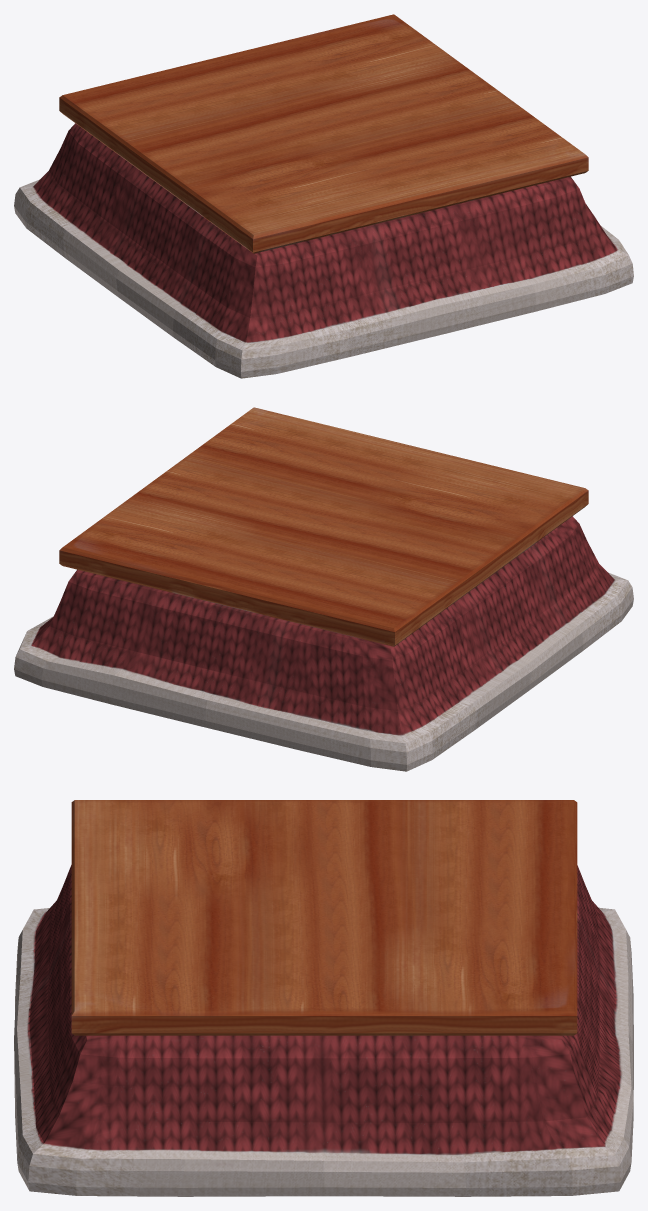
File: Kotatsu 1.fbx
3 renders of one model, top to bottom at view 1: azimuth 30°, elevation 25°; view 2: azimuth 150°, elevation 25°; view 3: azimuth 270°, elevation 25°, orthographic. The views are drawn at different scales.
Visible parts, largest first — view 1: Kotatsu; view 2: Kotatsu; view 3: Kotatsu.
Part boxes in pixels (x1,y1,x2,y2): Kotatsu: [14, 14, 633, 378]; Kotatsu: [14, 407, 633, 771]; Kotatsu: [14, 800, 633, 1196].
Size of the model in its own units: 198 by 56.63 by 198.
